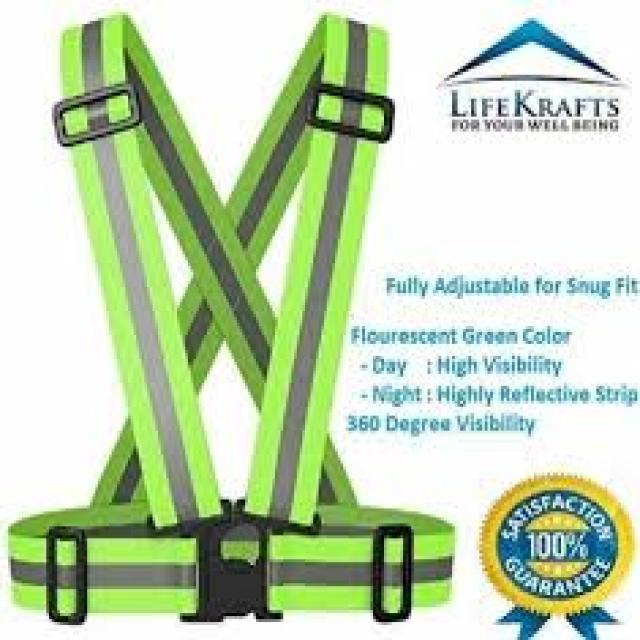reflective_jacket: (2, 17, 612, 639)
